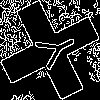Y: (25, 25, 81, 76)
